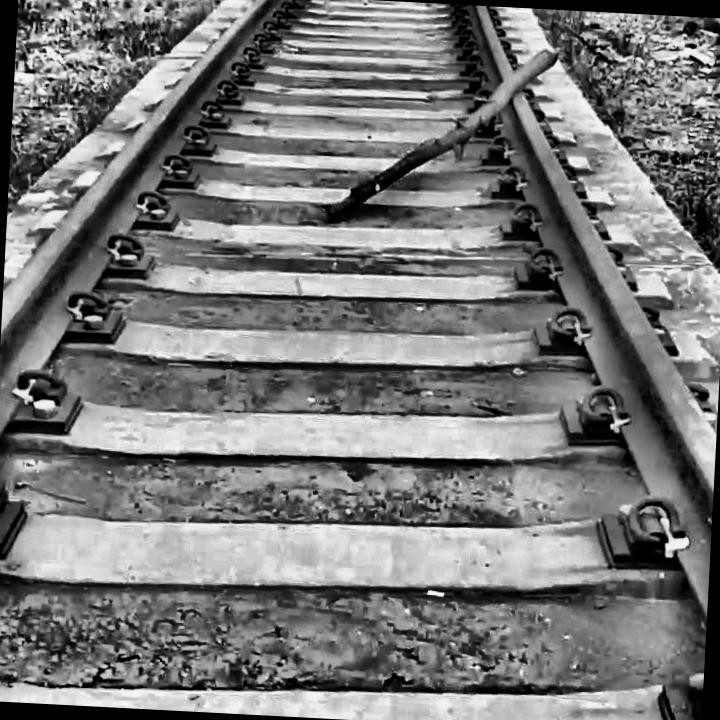Trash: (325, 31, 571, 236)
